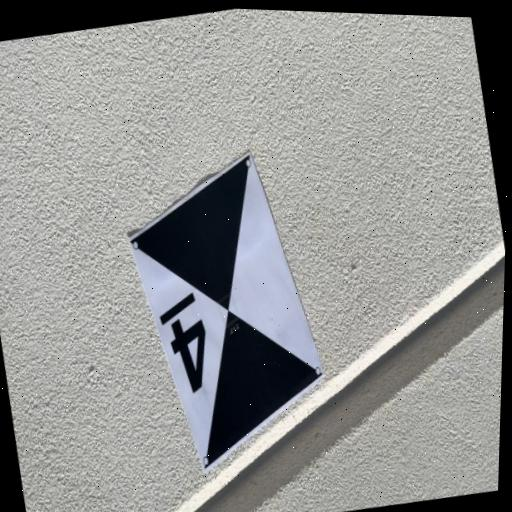target4: (127, 150, 324, 472)
